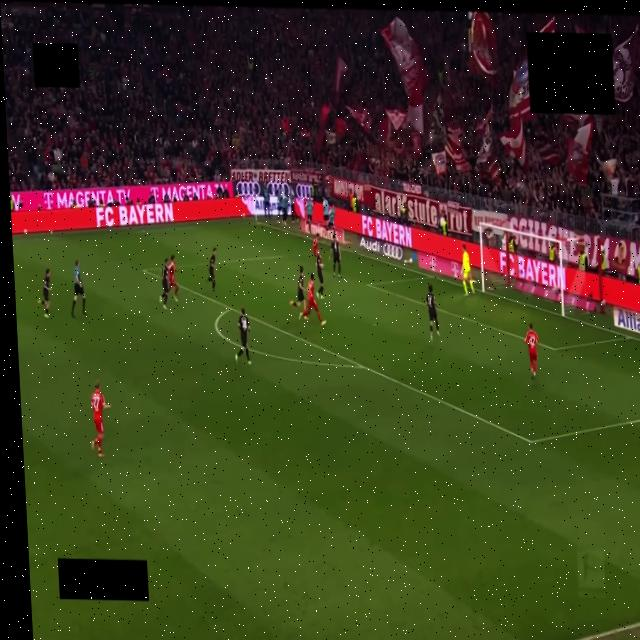player: (91, 381, 110, 457), (299, 274, 325, 326), (235, 308, 251, 364), (525, 323, 539, 378), (426, 285, 440, 339), (290, 266, 306, 309), (462, 244, 474, 296), (39, 269, 51, 318), (168, 255, 178, 301), (160, 259, 169, 309), (331, 233, 340, 277), (316, 251, 324, 299), (208, 248, 216, 290), (313, 236, 318, 256)
referee: (71, 260, 86, 317)
